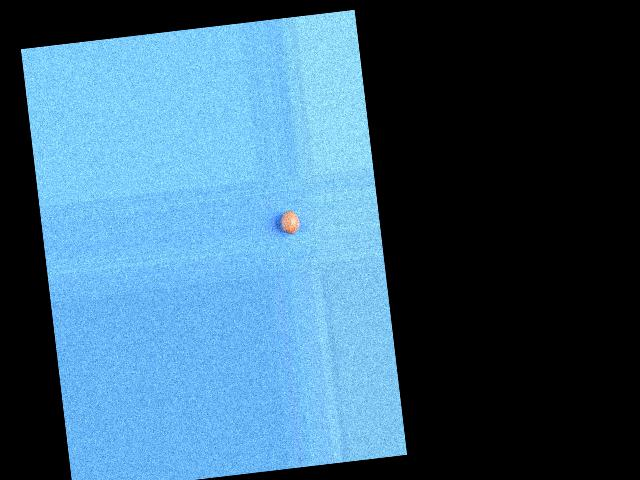egg: (279, 209, 300, 234)
